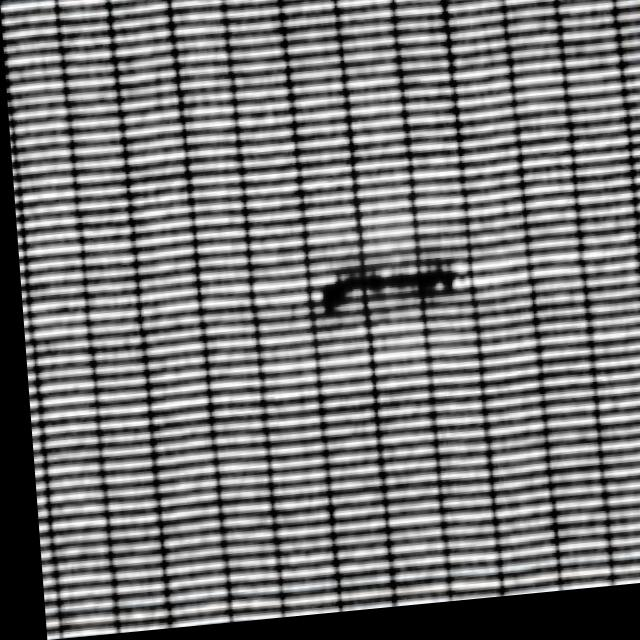Stitch: (293, 236, 475, 358)
